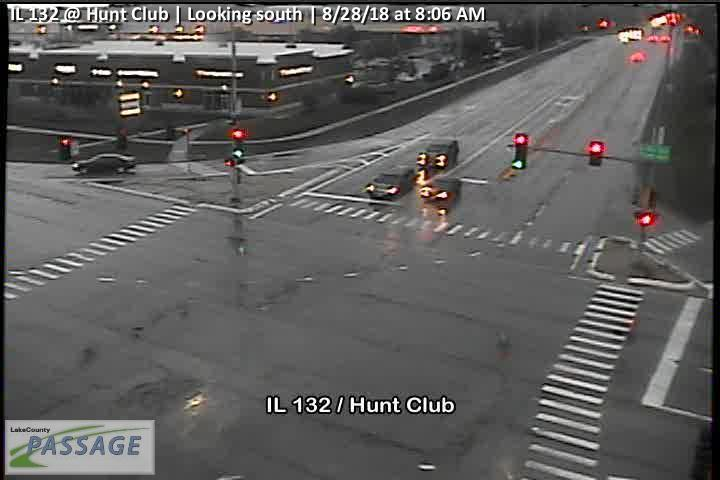SUV: (418, 137, 458, 174)
Sedan: (420, 175, 462, 216), (365, 167, 412, 200), (69, 153, 137, 174)
